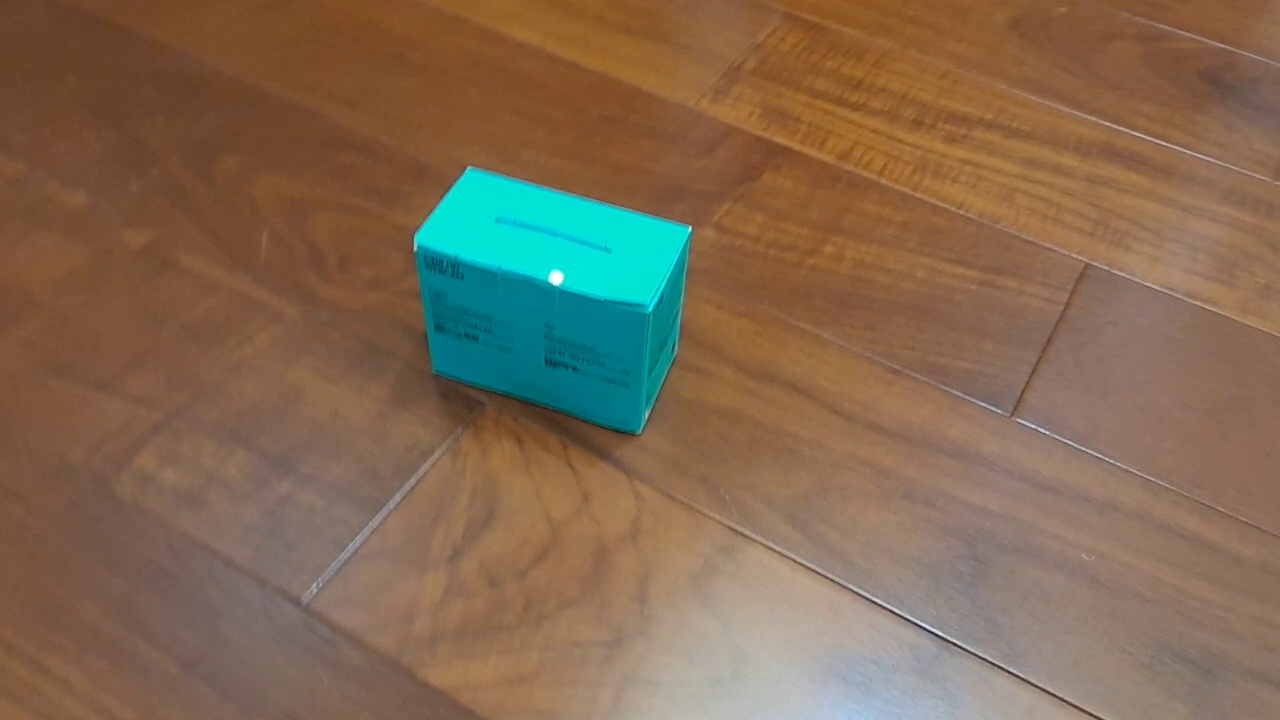webcam: (410, 164, 694, 438)
